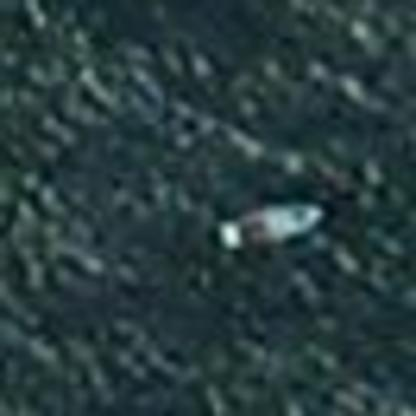ship: (209, 193, 336, 260)
